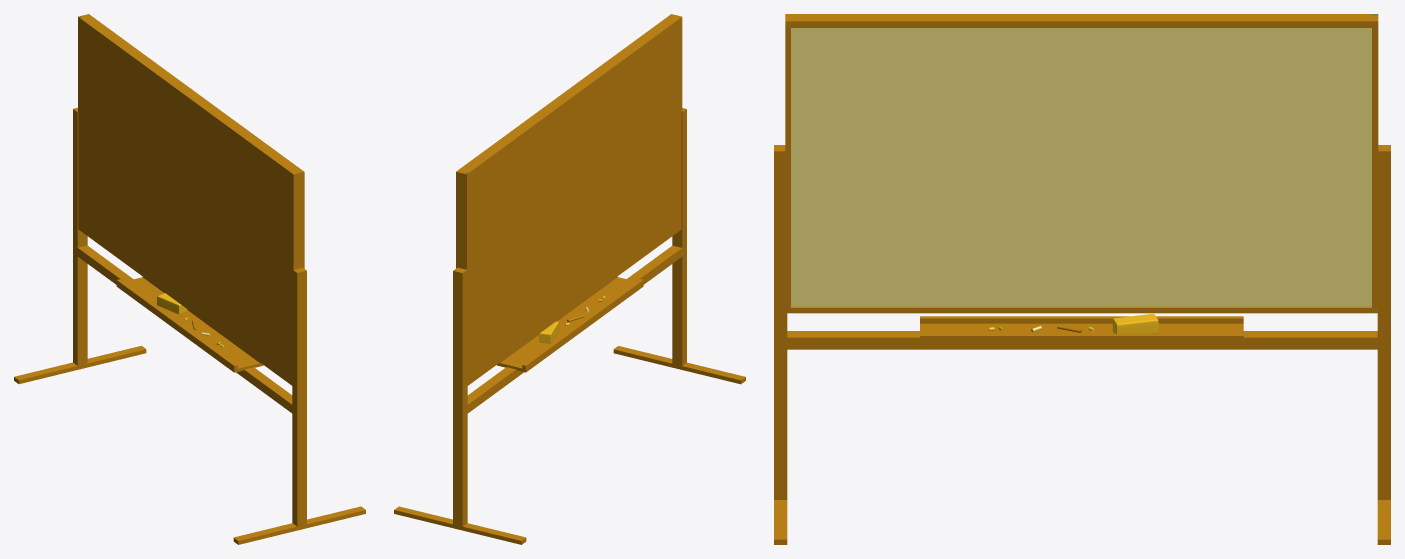
File: Board.glb
3 renders of one model, left to right at view 1: azimuth 30°, elevation 25°; view 2: azimuth 150°, elevation 25°; view 3: azimuth 270°, elevation 25°, orthographic. The views are drawn at different scales.
Parts seen in each view (by area): view 1: pCube1, pCube3, pCube7, pCube2, pCube6, pCube4, pCube5; view 2: pCube1, pCube2, pCube7, pCube3, pCube6, pCube4, pCube5; view 3: pCube1, pCube7, pCube6, pCube2, pCube3, pCube8.
Boxes of the visible parts, x1,y1,x2,y2 form: pCube1: [78, 14, 304, 385]; pCube3: [292, 267, 306, 526]; pCube7: [116, 277, 263, 372]; pCube2: [73, 107, 87, 366]; pCube6: [74, 245, 295, 415]; pCube4: [14, 345, 146, 383]; pCube5: [233, 506, 365, 544]; pCube1: [456, 14, 682, 385]; pCube2: [453, 267, 467, 526]; pCube7: [497, 276, 643, 372]; pCube3: [672, 108, 686, 365]; pCube6: [465, 245, 682, 413]; pCube4: [394, 506, 526, 544]; pCube5: [613, 346, 745, 384]; pCube1: [785, 14, 1378, 313]; pCube7: [920, 316, 1243, 345]; pCube6: [778, 331, 1385, 349]; pCube2: [1377, 145, 1390, 499]; pCube3: [774, 145, 787, 499]; pCube8: [1112, 314, 1158, 333].
Bounding box in the file's own units: 3.96 × 10.46 × 12.06.
